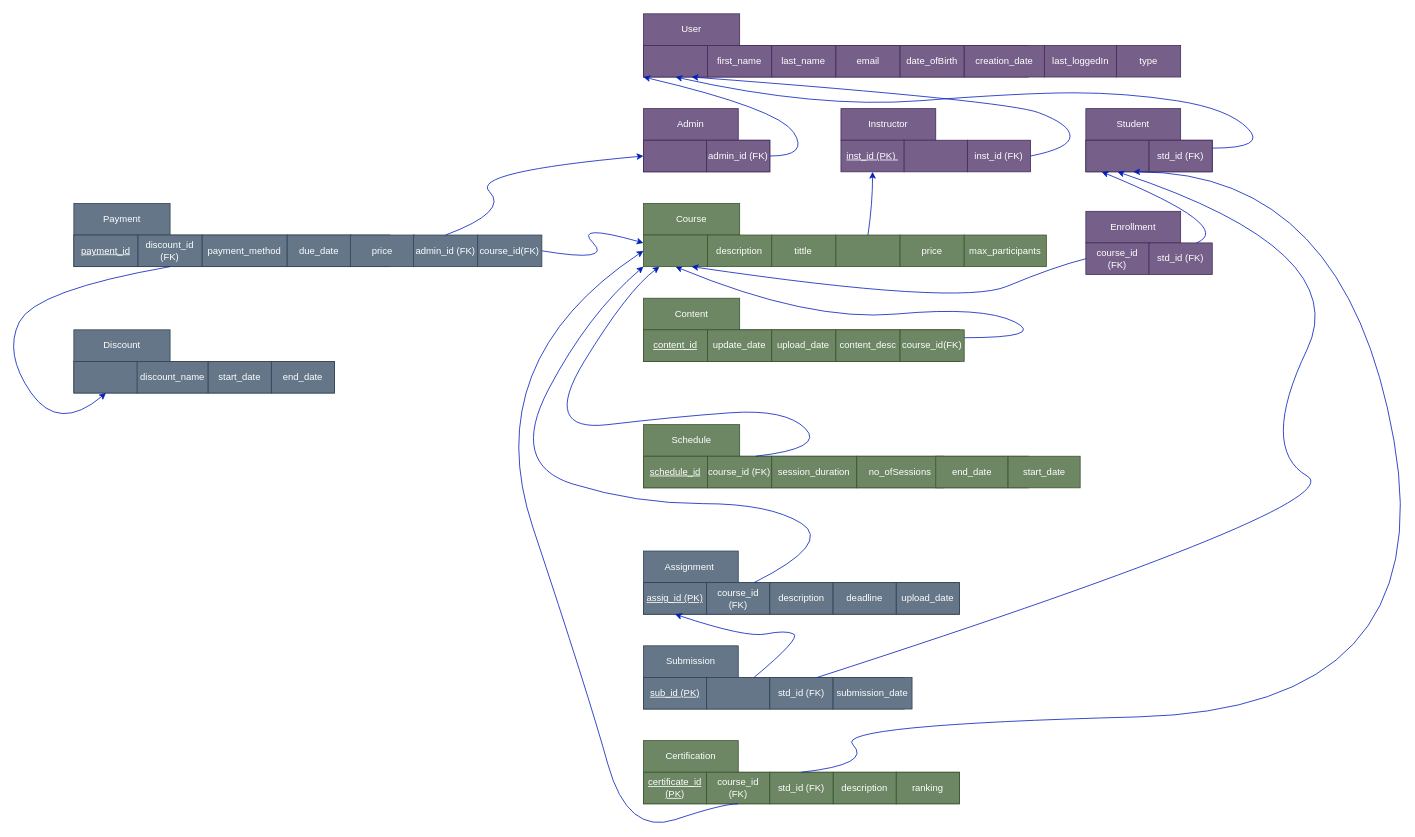
This 1415x837 diagram has some shape labels left out. Each missing label, with the centre of its shape:
"admin_id(PK)" belongs at (x=675, y=155).
"assig_id (FK)" belongs at (x=738, y=693).
"course_id" belongs at (x=675, y=250).
"dicount_id" belongs at (x=105, y=377).
"inst_id(FK)" belongs at (x=867, y=250).
"specialization" belongs at (x=935, y=155).
"std_id (PK)" belongs at (x=1117, y=155).
"user_id (PK)" belongs at (x=675, y=61).
